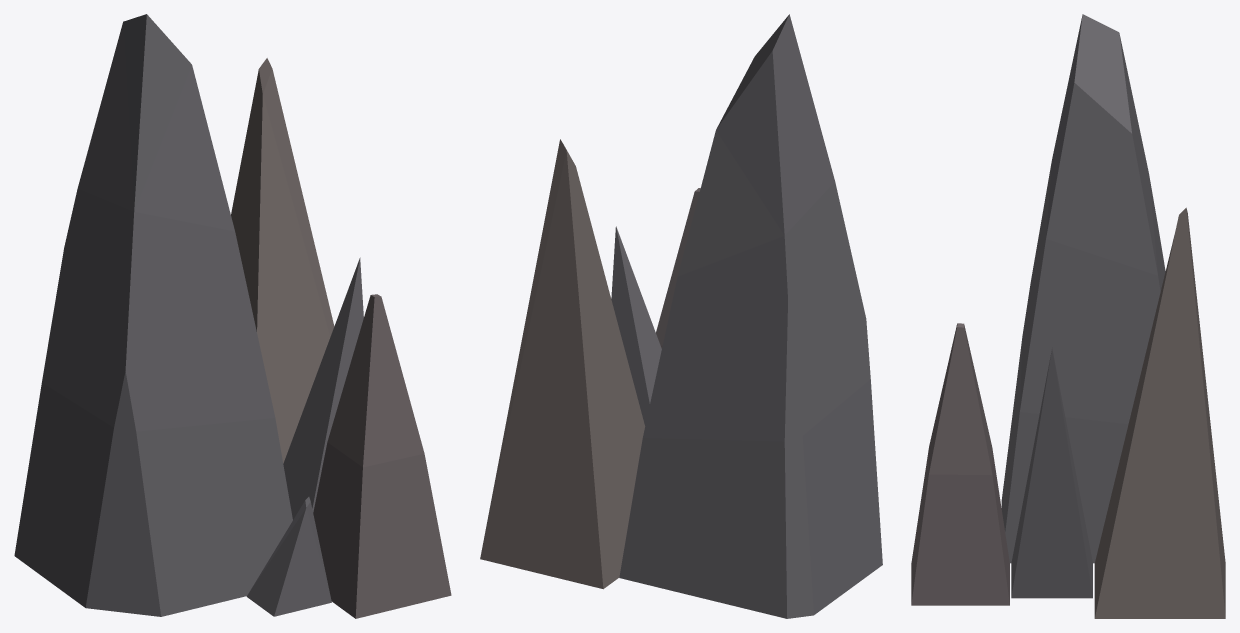
File: Rocks_Sharp_s_01.fbx
3 views of the same model, side by side, from view 1: azimuth 30°, elevation 25°; view 2: azimuth 150°, elevation 25°; view 3: azimuth 270°, elevation 25° (orthographic). The views are drawn at different scales.
Visible parts, largest first — view 1: Rocks_Sharp_s_01; view 2: Rocks_Sharp_s_01; view 3: Rocks_Sharp_s_01.
Boxes of the visible parts, left/top/right/bottom form: Rocks_Sharp_s_01: left=14, top=14, right=451, bottom=618; Rocks_Sharp_s_01: left=480, top=14, right=882, bottom=618; Rocks_Sharp_s_01: left=911, top=14, right=1225, bottom=618.
Bounding box in the file's own units: 51.38 × 86.83 × 49.38.
